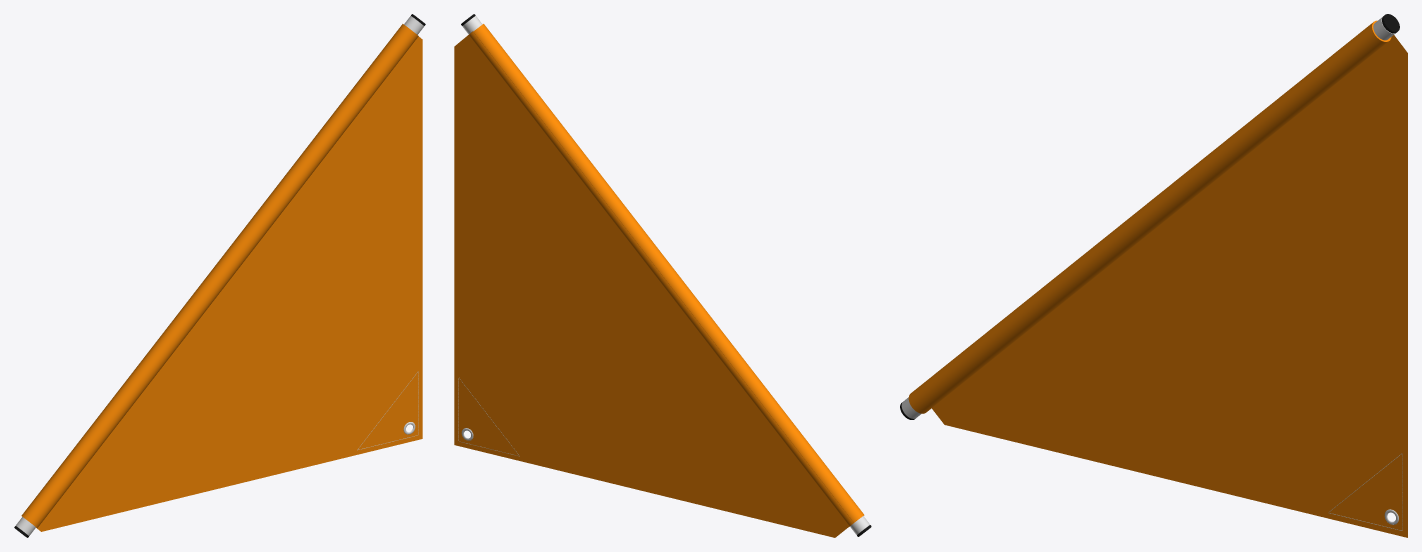
Rendered from Giebelfenster (Dreieck).glb.
3 views of the same model, side by side, from view 1: azimuth 30°, elevation 25°; view 2: azimuth 150°, elevation 25°; view 3: azimuth 330°, elevation 25° (orthographic). The views are drawn at different scales.
Visible parts, largest first — view 1: Stoff Dreieck.001, Stoffende.001, Rolle.001; view 2: Stoff Dreieck.001, Stoffende.001, Rolle.001; view 3: Stoff Dreieck.001, Stoffende.001, Rolle.001.
Boxes of the visible parts, box(x1,y1,x2,y2) form: Stoff Dreieck.001: box(37, 36, 422, 531); Stoffende.001: box(21, 24, 418, 528); Rolle.001: box(14, 14, 425, 537); Stoff Dreieck.001: box(454, 31, 853, 537); Stoffende.001: box(469, 24, 864, 526); Rolle.001: box(461, 14, 871, 536); Stoff Dreieck.001: box(932, 35, 1407, 537); Stoffende.001: box(908, 20, 1391, 413); Rolle.001: box(900, 14, 1399, 419).
Bounding box in the file's own units: 1 × 0.9998 × 0.0428.
Materials: 5 (1 with a texture image).
